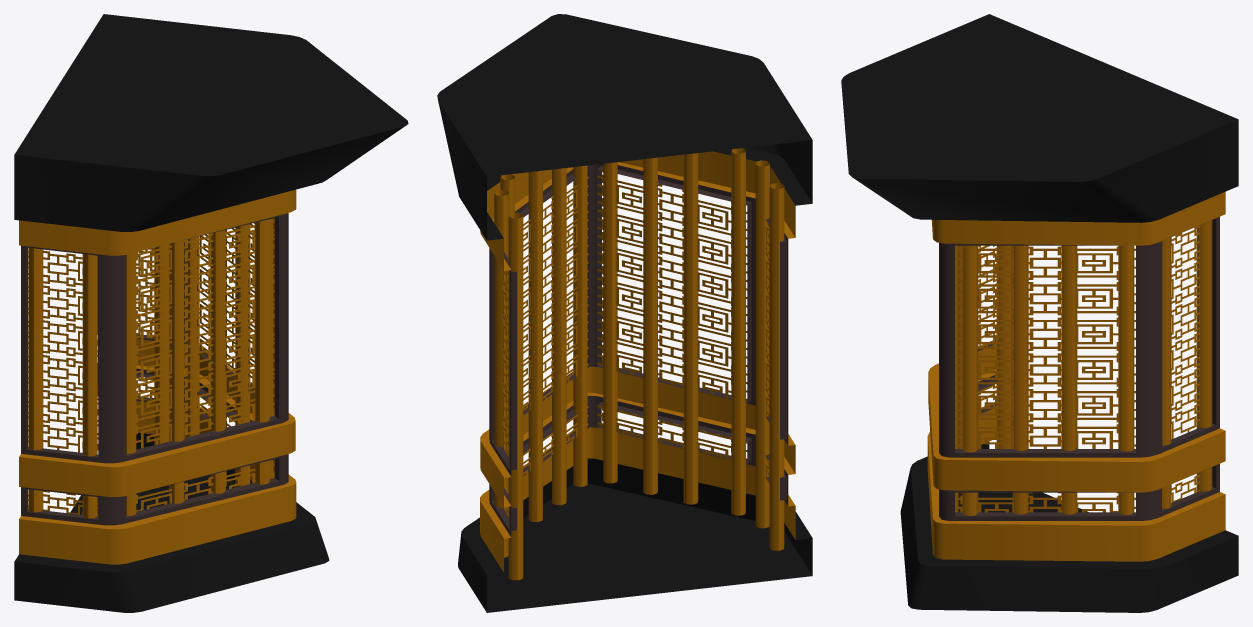
Rendered from Pillar F0.fbx.
3 renders of one model, left to right at view 1: azimuth 30°, elevation 25°; view 2: azimuth 150°, elevation 25°; view 3: azimuth 270°, elevation 25°, orthographic. The views are drawn at different scales.
Parts seen in each view (by area): view 1: Pillar F0; view 2: Pillar F0; view 3: Pillar F0.
Boxes of the visible parts, bbox=[...] form: Pillar F0: bbox=[14, 14, 408, 612]; Pillar F0: bbox=[437, 14, 812, 612]; Pillar F0: bbox=[841, 14, 1238, 612].
Size of the model in its own units: 375 by 475 by 375.
